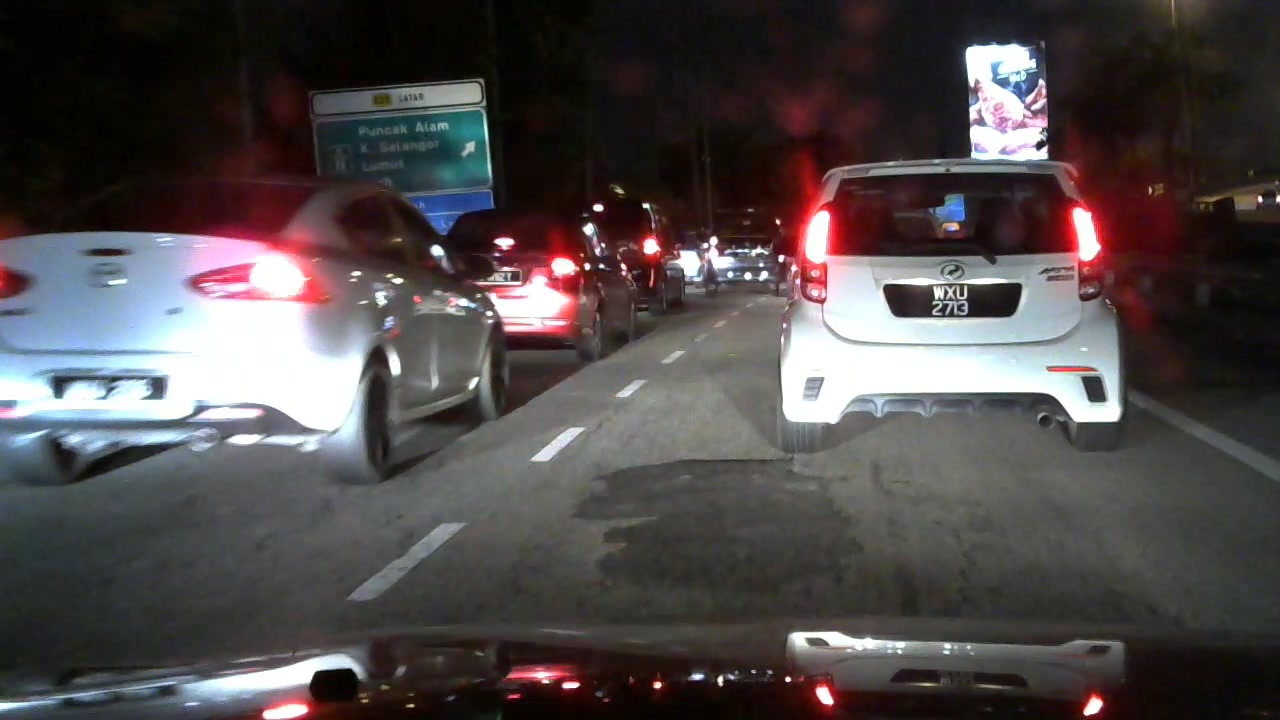Car: (1, 151, 514, 470), (775, 155, 1119, 459), (462, 198, 644, 350), (601, 190, 691, 311), (673, 230, 722, 301)
